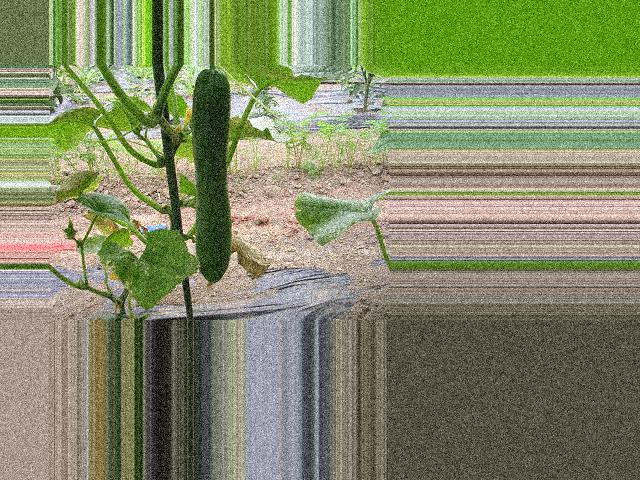cucumber: (192, 69, 231, 289)
